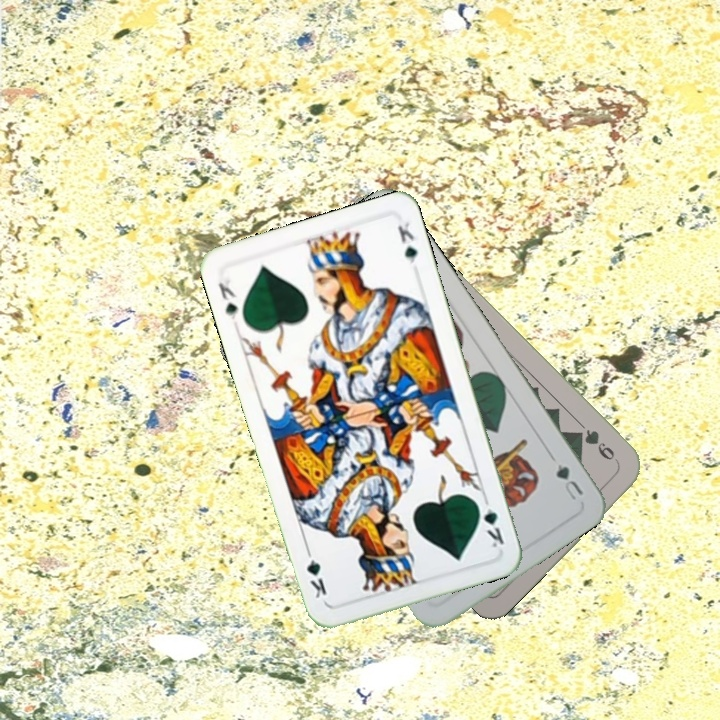G9: (570, 425, 622, 466)
GK: (472, 496, 507, 551), (214, 274, 241, 323)
GU: (552, 459, 586, 505)
